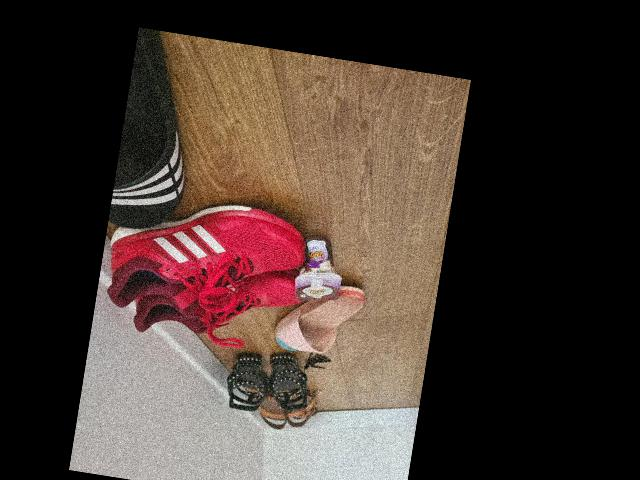milky: (291, 235, 347, 303)
